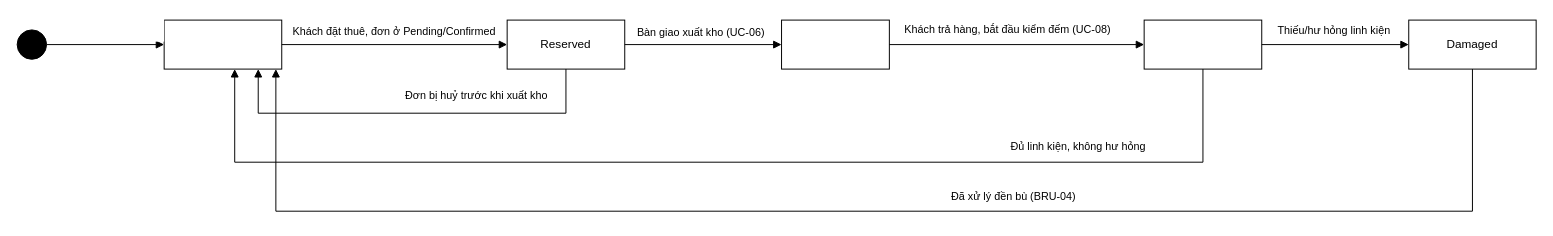
This 1553x236 diagram has some shape labels left out. The shapes that lost their labels are listed below. From the top down, each one's box as (x1, y1, x2, y2) in pixels, then its label:
(56, 17, 164, 41): Nhập kho lần đầu
(163, 19, 282, 69): Available
(781, 19, 889, 69): Rented
(1143, 19, 1262, 69): Checking
